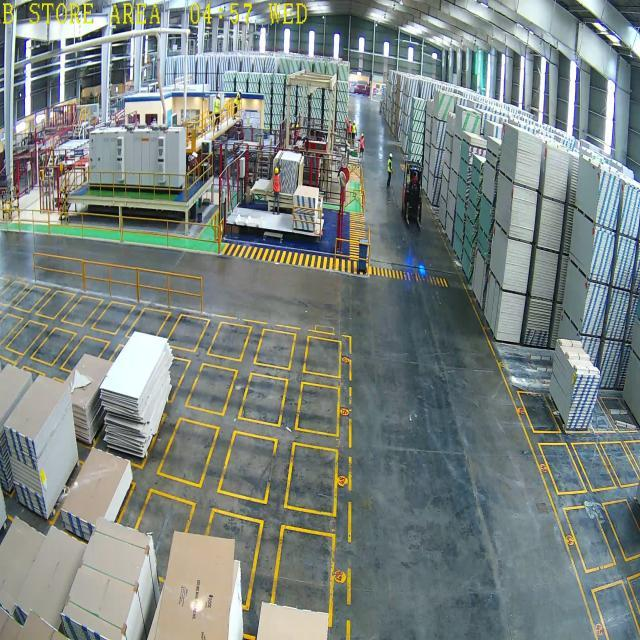material_stack: (560, 341, 596, 422)
